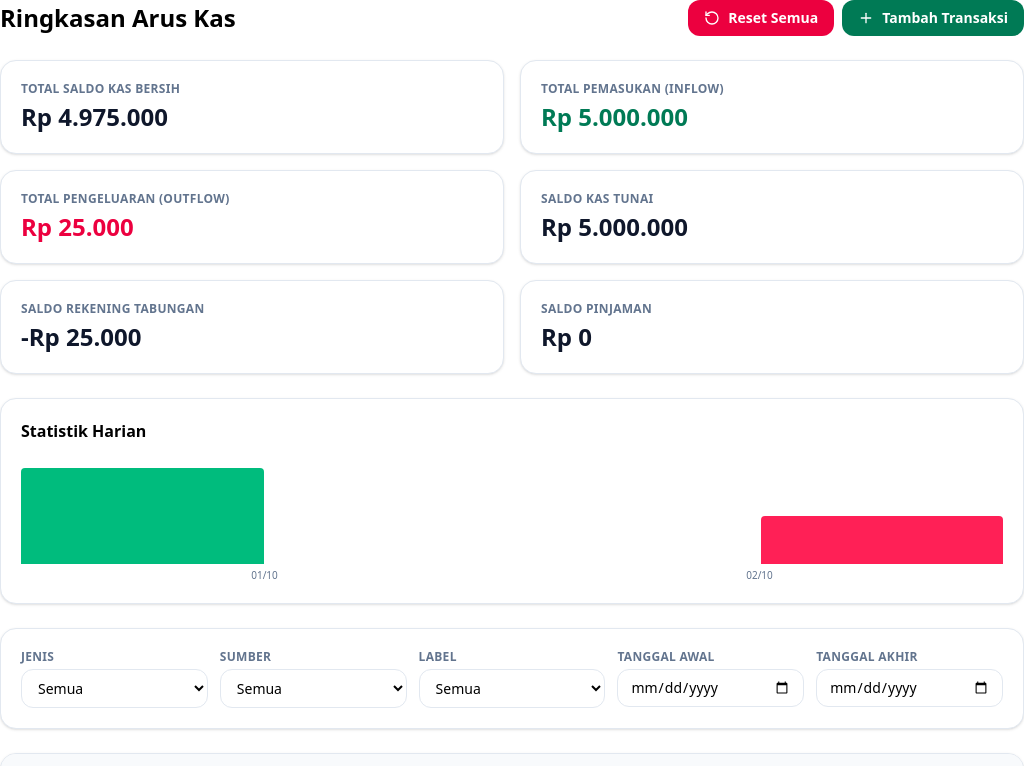
Test: HomePage › menambah transaksi lewat modal lalu memuat ulang
The width and height of the screenshot is (1024, 766).
Expected: the text "Catat Arus Kas" is not shown
Click the button "Tambah Transaksi" at (933, 18), box [842,0,1023,36]
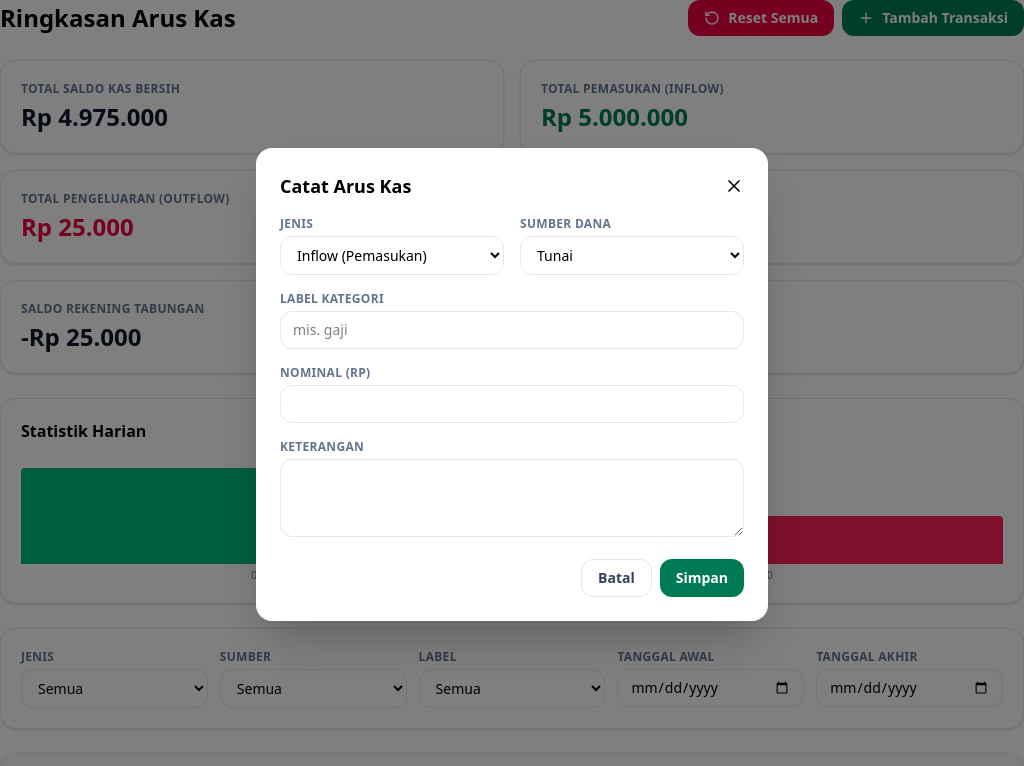
Expected: the text "Catat Arus Kas" is shown, [280,172,411,200]
Type "bonus" into the field labelled "Label Kategori" at (512, 330), box [280,310,744,348]
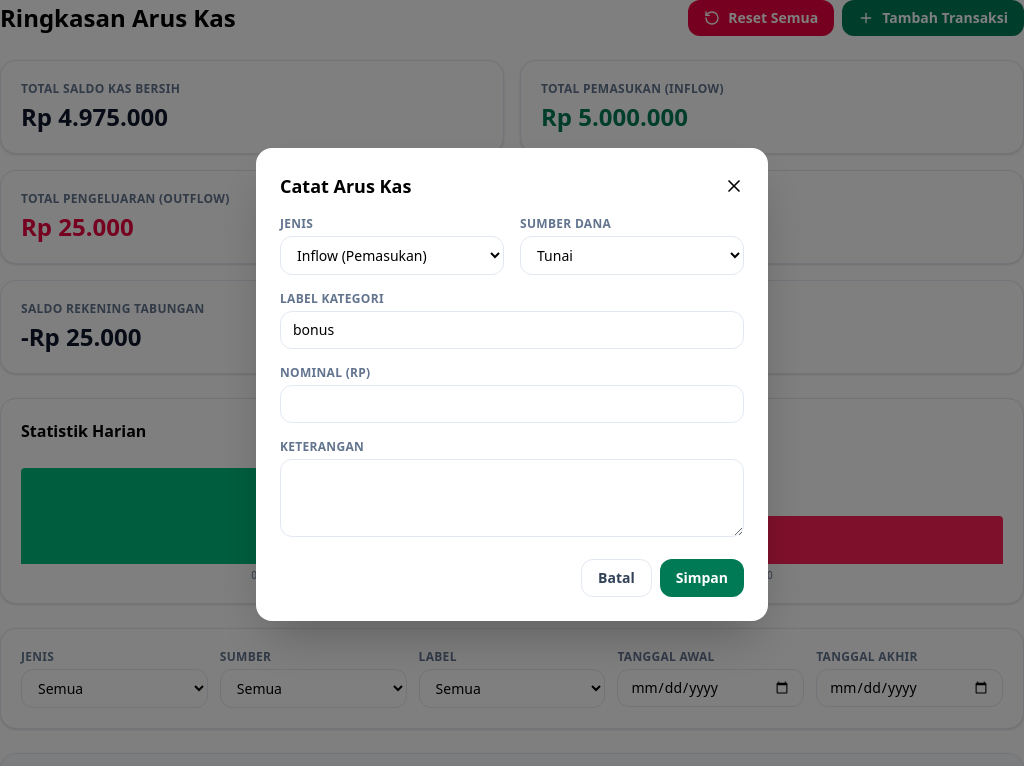
Type "1000" into the number field with id "nominal" at (512, 404), box [280,384,744,422]
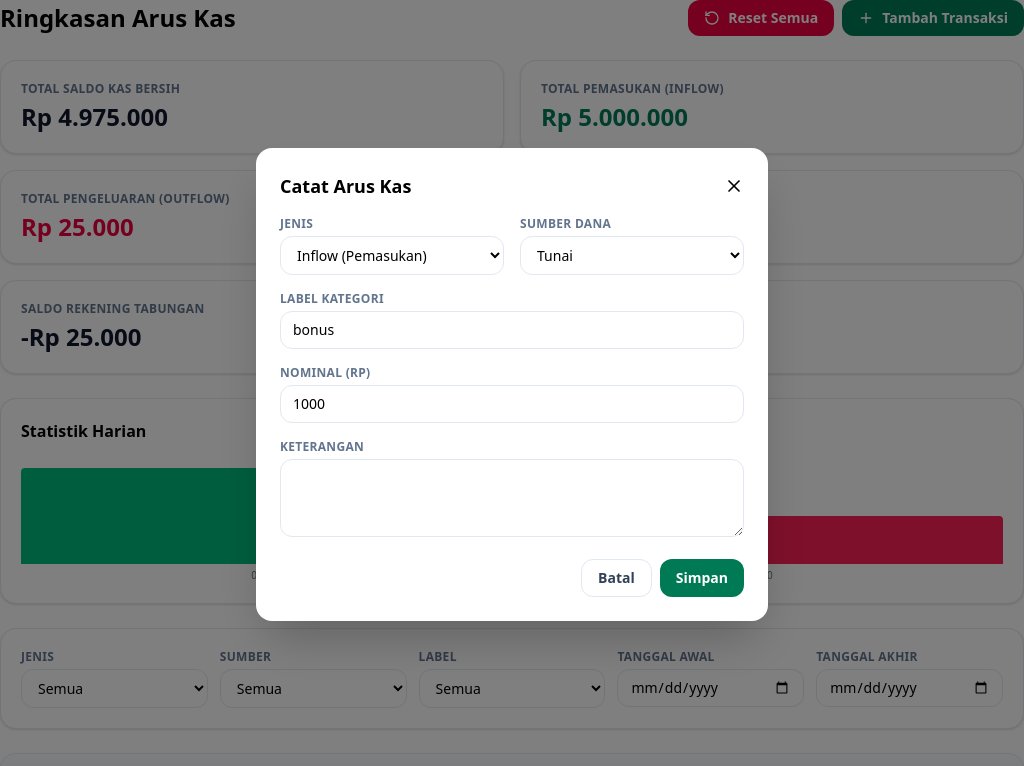
Submit the form, box [256,148,768,620]
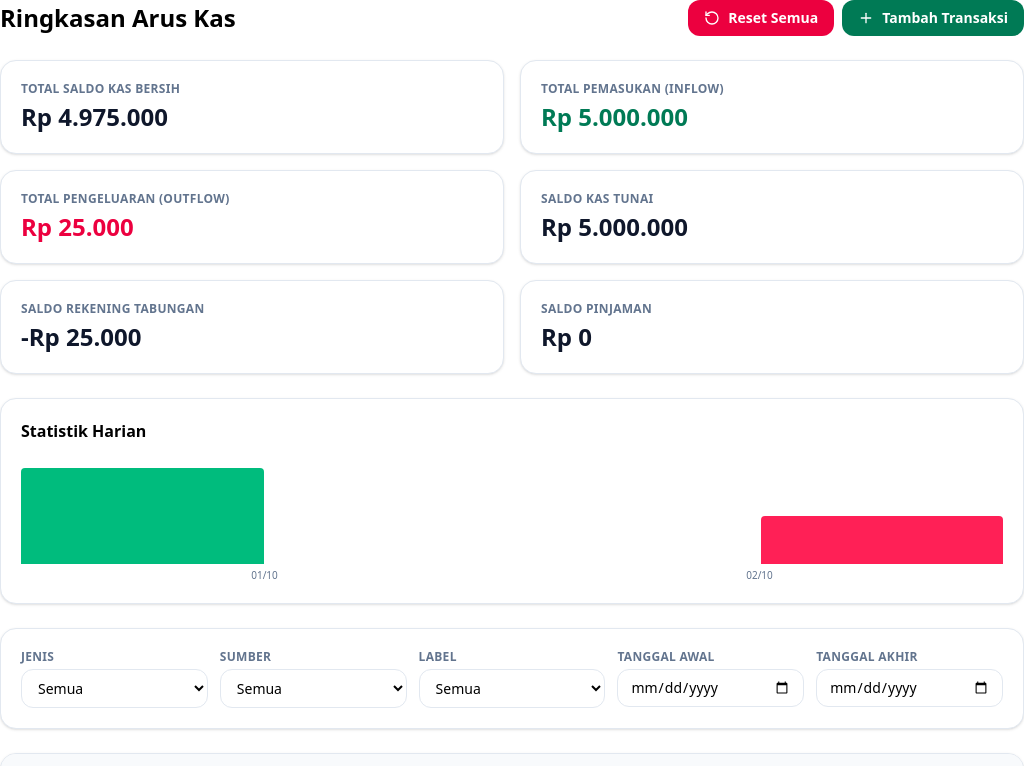
Expected: the text "Catat Arus Kas" is gone
